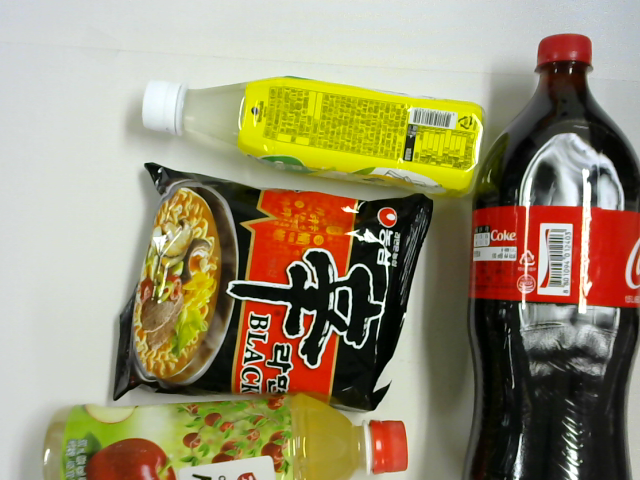Coca_Cola_1.5L: (461, 35, 640, 477)
Morning_Apple_500ml: (40, 393, 409, 480)
Sinramen_Black: (113, 161, 435, 409)
Sunkist_Lemonaid_Pet: (140, 75, 487, 194)
